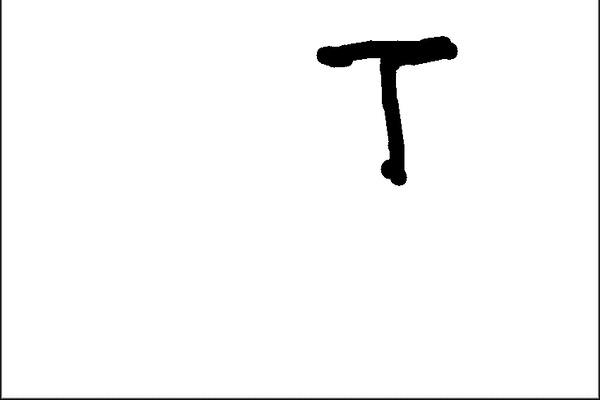T: (306, 25, 462, 189)
